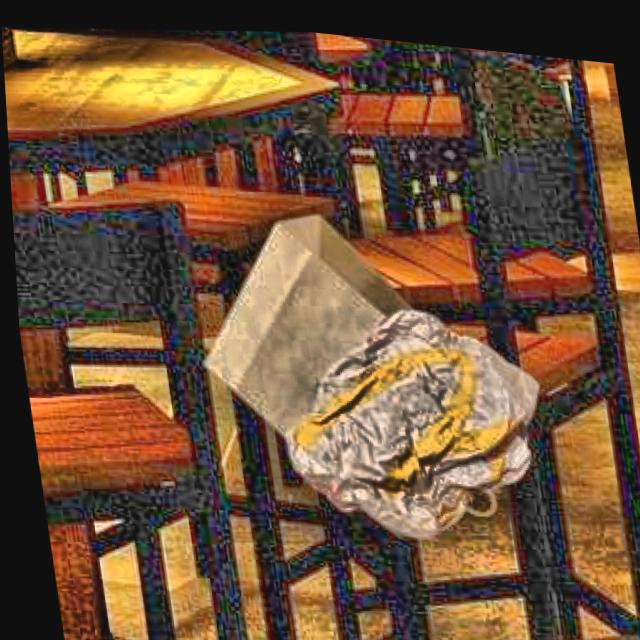Paper-bag: (153, 171, 508, 547), (256, 270, 574, 567)
